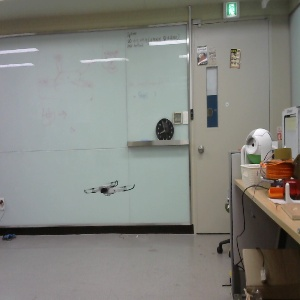Drone: (81, 179, 137, 197)
